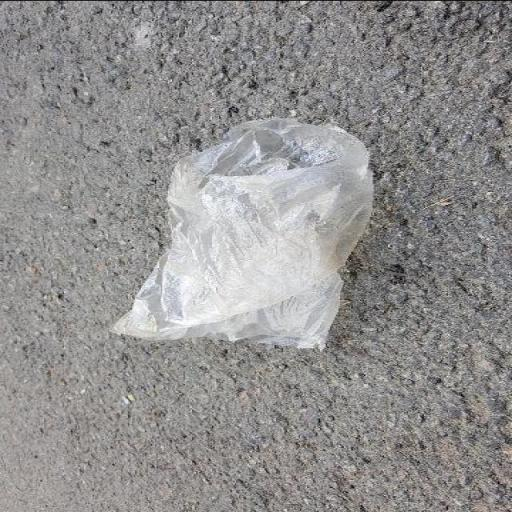plastic-bag: (104, 115, 376, 355)
